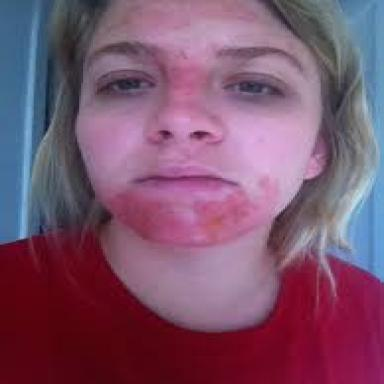burn: (105, 56, 277, 248), (156, 0, 253, 33)
